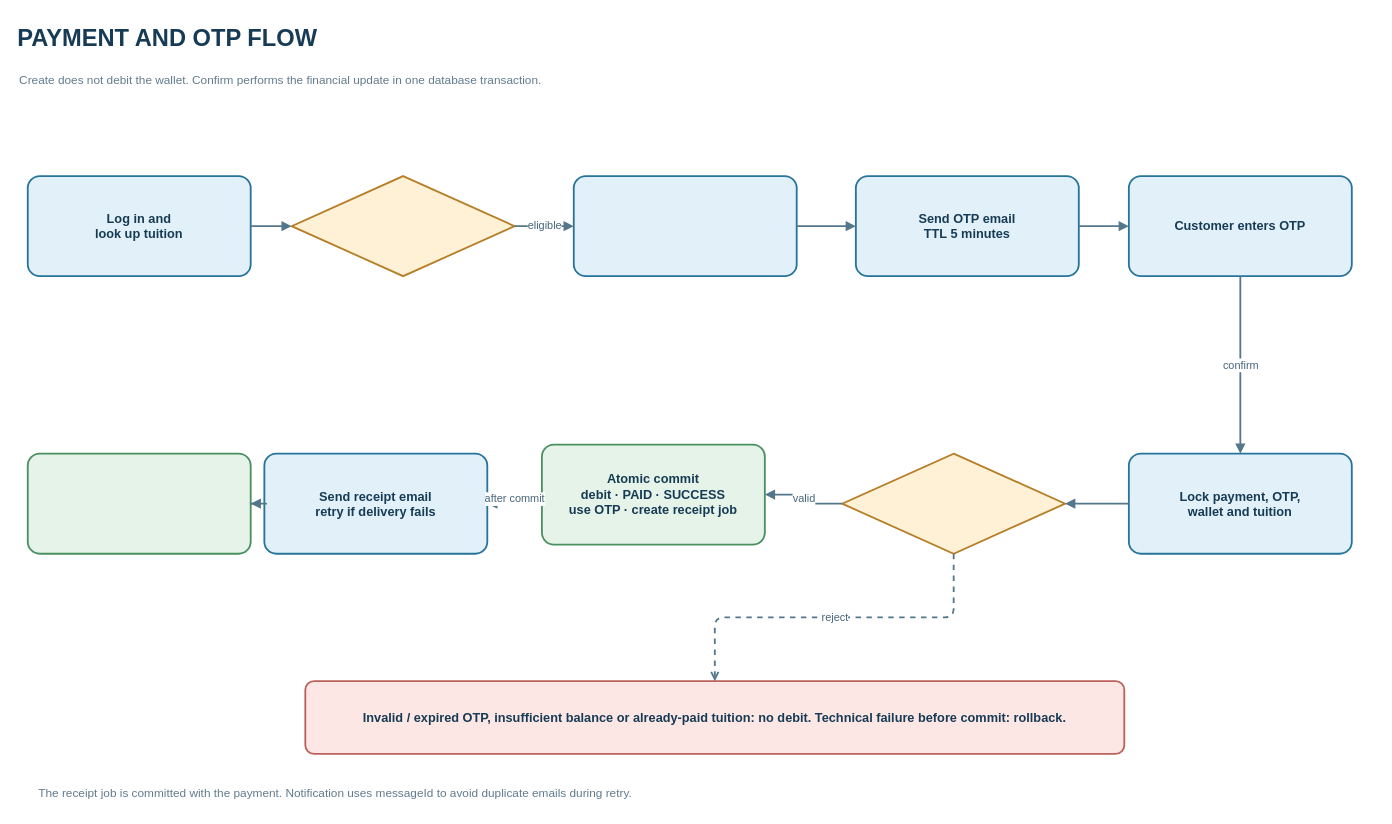
This 1392x824 diagram has some shape labels left out. The box of each missing label's shape, as (x1, y1, x2, y2) in pixels:
Check UNPAID and balance: (290, 175, 515, 277)
Payment complete: (26, 452, 251, 554)
Recheck OTP, status and balance: (841, 452, 1066, 554)
Save PENDING_OTP and hashed OTP: (572, 175, 797, 277)
